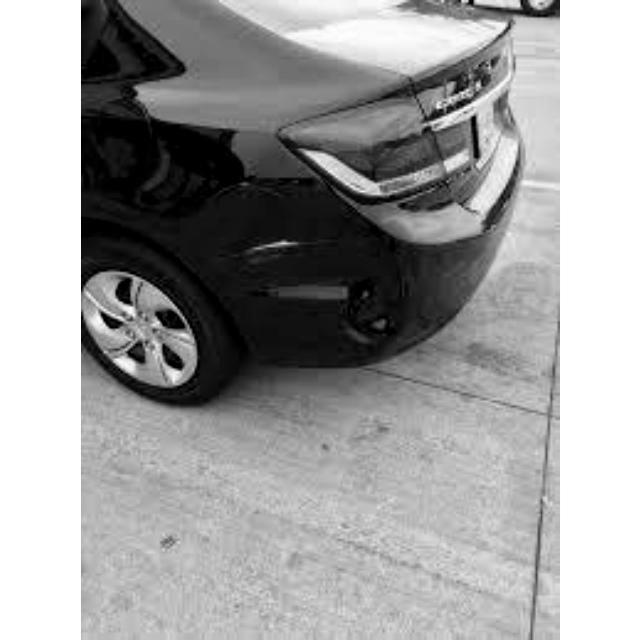rear-bumper-dent: (219, 198, 446, 358)
